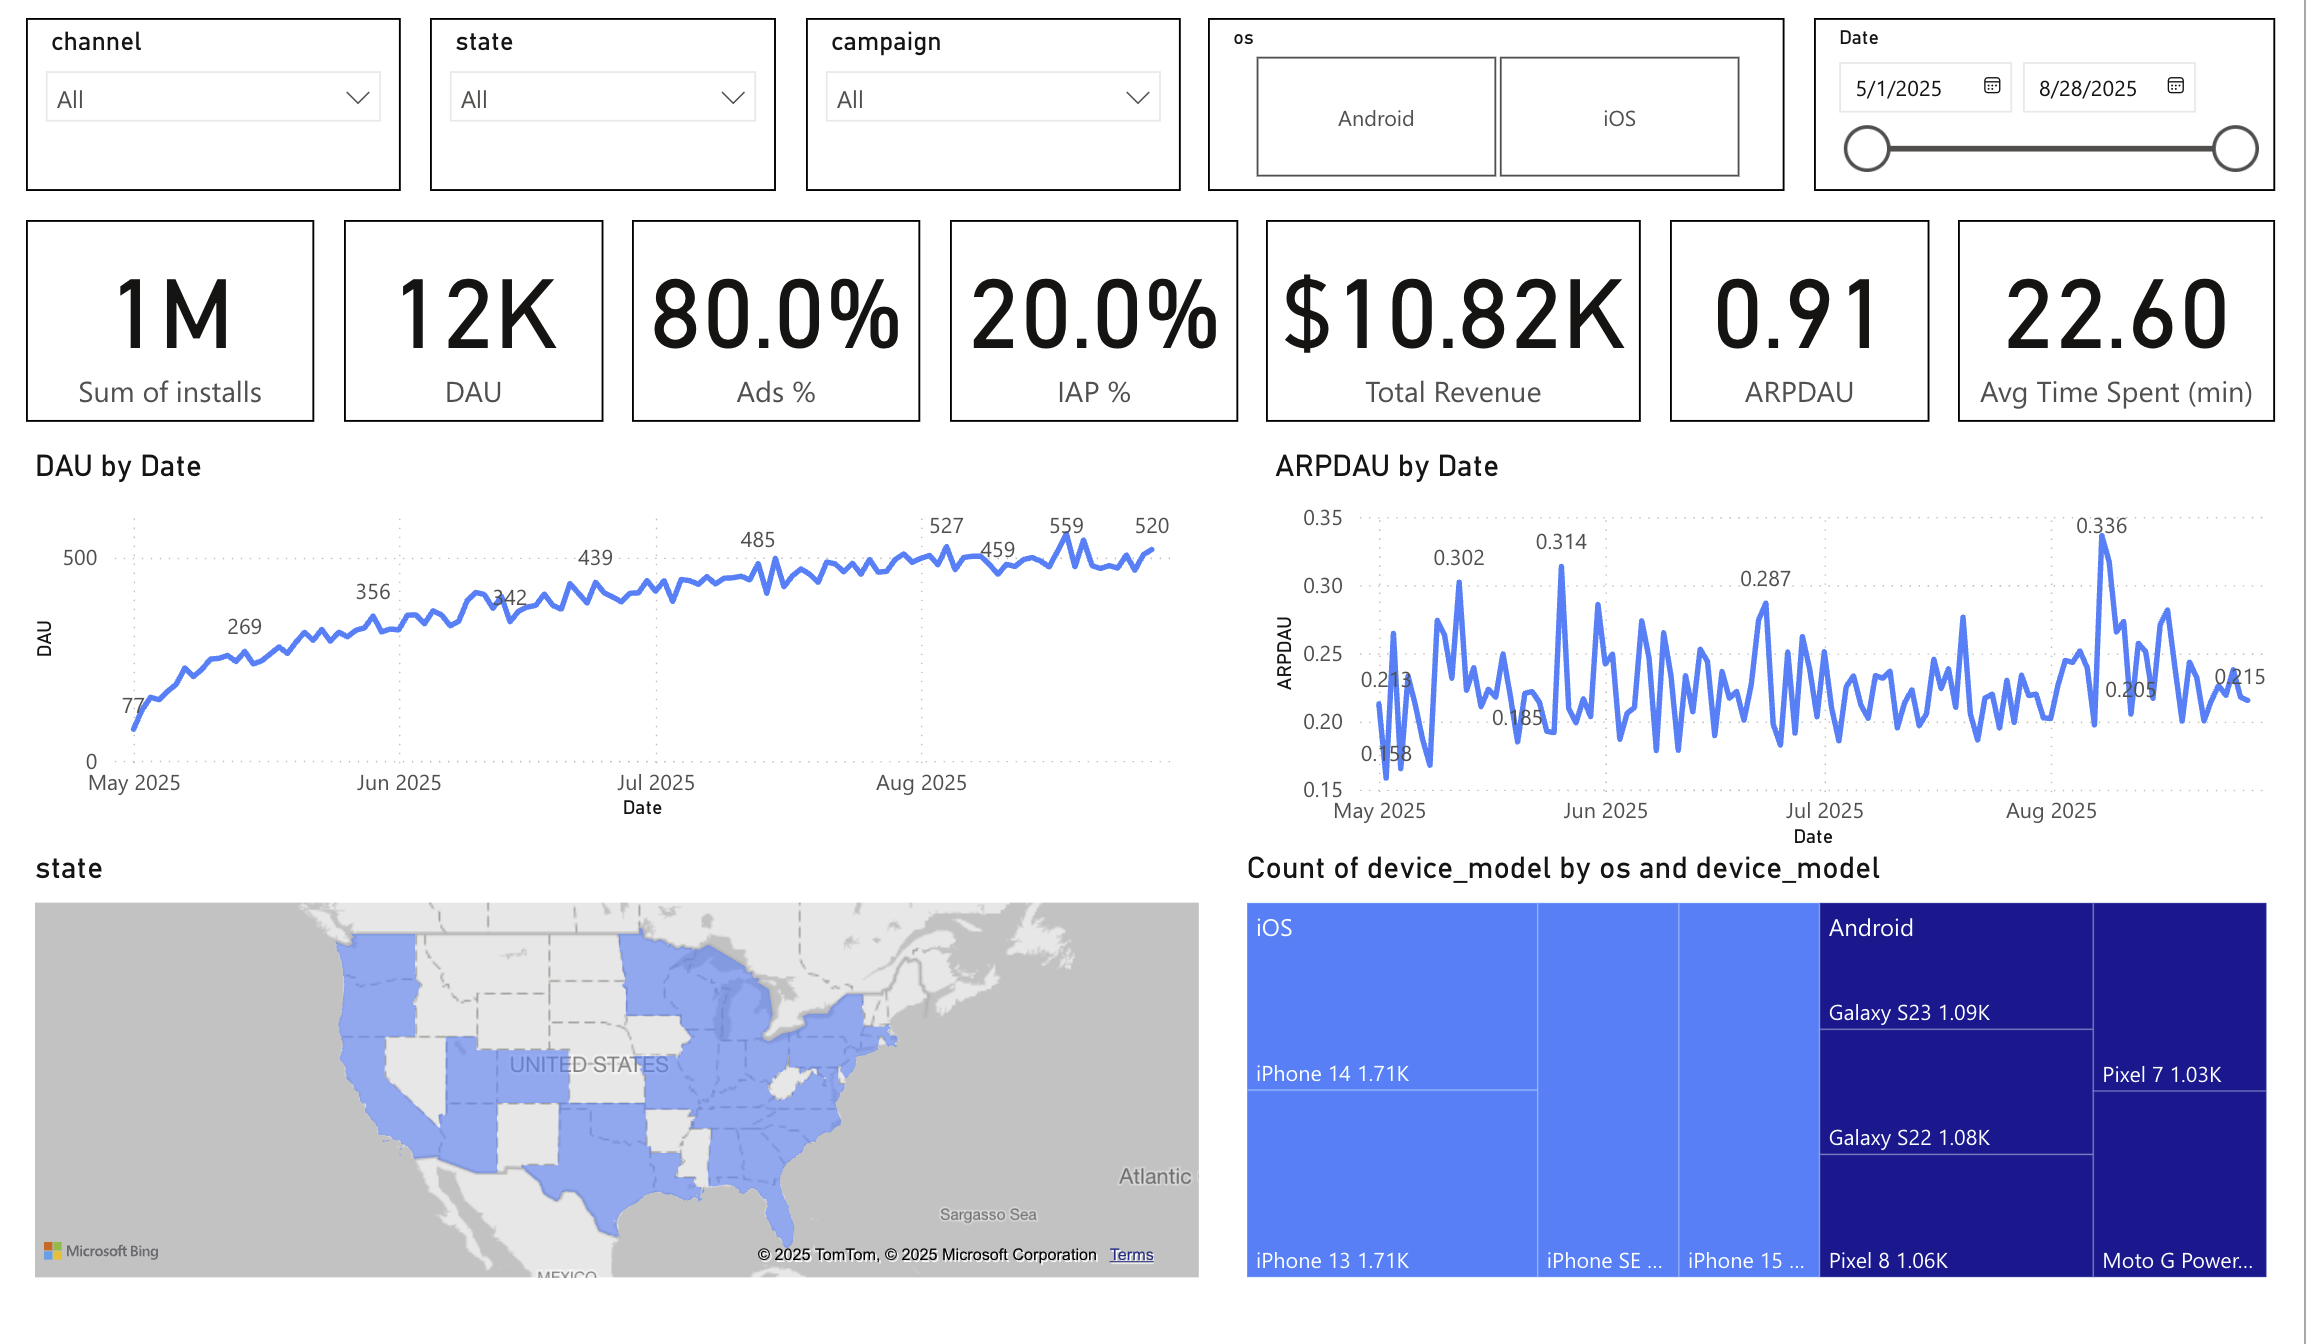

This screenshot's page, from the dashboard's own definition file:
{"tool":"powerbi","page":{"name":"Product Dashboard","canvas":[1280,720],"ordinal":0},"visuals":[{"type":"slicer","fields":{"Values":["Date.Date"]},"box":[1008,16,256,96],"z":0},{"type":"slicer","fields":{"Values":["users.os"]},"box":[672,16,320,96],"z":1000},{"type":"slicer","fields":{"Values":["users.state"]},"box":[240,16,192,96],"z":2000},{"type":"slicer","fields":{"Values":["users.channel"]},"box":[16,16,208,96],"z":3000},{"type":"slicer","fields":{"Values":["users.campaign"]},"box":[448,16,208,96],"z":4000},{"type":"card","fields":{"Values":["Sum(campaign_retention_arpdau.installs)"]},"box":[16,128,160,112],"z":5000},{"type":"card","fields":{"Values":["measure.DAU"]},"box":[192,128,144,112],"z":6000},{"type":"card","fields":{"Values":["measure.Ads %"]},"box":[352,128,160,112],"z":7000},{"type":"card","fields":{"Values":["measure.IAP %"]},"box":[528,128,160,112],"z":8000},{"type":"card","fields":{"Values":["measure.Total Revenue"]},"box":[704,128,208,112],"z":9000},{"type":"card","fields":{"Values":["measure.ARPDAU"]},"box":[928,128,144,112],"z":10000},{"type":"card","fields":{"Values":["measure.Avg Time Spent (min)"]},"box":[1088,128,176,112],"z":11000},{"type":"lineChart","fields":{"Y":["measure.DAU"],"Category":["Date.Date"]},"box":[16,256,656,208],"z":12000},{"type":"lineChart","fields":{"Category":["Date.Date"],"Y":["measure.ARPDAU"]},"box":[704,256,576,224],"z":13000},{"type":"filledMap","fields":{"Category":["users.state"]},"box":[16,480,656,240],"z":14000},{"type":"treemap","fields":{"Group":["users.os"],"Values":["CountNonNull(users.device_model)"],"Details":["users.device_model"]},"box":[688,480,576,240],"z":15000}]}

Visuals, with their boxes on the page's 1280x720 design canvas (x1, y1, x2, y2). These are canvas units, not pixel positions in the 2306x1344 screenshot, which may show the page scaled, cropped or inside an application window:
slicer - Date.Date: Rect(1008, 16, 1264, 112)
slicer - users.os: Rect(672, 16, 992, 112)
slicer - users.state: Rect(240, 16, 432, 112)
slicer - users.channel: Rect(16, 16, 224, 112)
slicer - users.campaign: Rect(448, 16, 656, 112)
card - Sum(campaign_retention_arpdau.installs): Rect(16, 128, 176, 240)
card - measure.DAU: Rect(192, 128, 336, 240)
card - measure.Ads %: Rect(352, 128, 512, 240)
card - measure.IAP %: Rect(528, 128, 688, 240)
card - measure.Total Revenue: Rect(704, 128, 912, 240)
card - measure.ARPDAU: Rect(928, 128, 1072, 240)
card - measure.Avg Time Spent (min): Rect(1088, 128, 1264, 240)
lineChart - measure.DAU x Date.Date: Rect(16, 256, 672, 464)
lineChart - Date.Date x measure.ARPDAU: Rect(704, 256, 1280, 480)
filledMap - users.state: Rect(16, 480, 672, 720)
treemap - users.os x CountNonNull(users.device_model): Rect(688, 480, 1264, 720)
